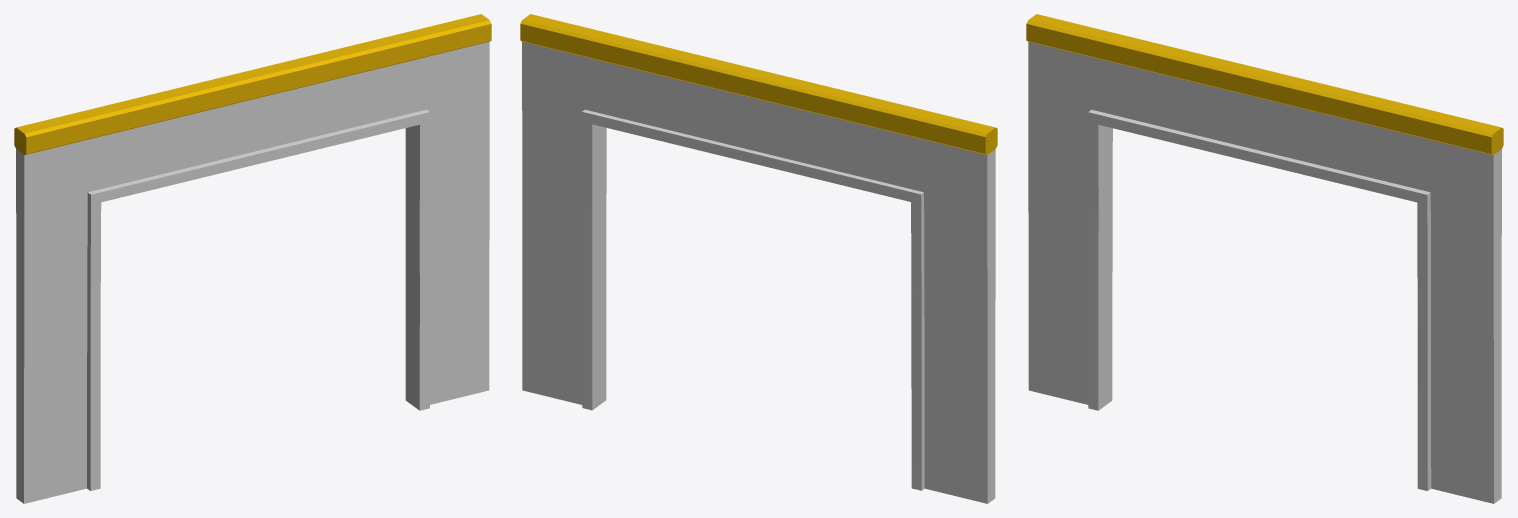
The model's file is wall_22.fbx.
3 views of the same model, side by side, from view 1: azimuth 30°, elevation 25°; view 2: azimuth 150°, elevation 25°; view 3: azimuth 330°, elevation 25° (orthographic).
Parts seen in each view (by area): view 1: WALL_4.006; view 2: WALL_4.006; view 3: WALL_4.006.
Part boxes in pixels (<box>): WALL_4.006: <box>14,14,491,503</box>; WALL_4.006: <box>520,14,997,503</box>; WALL_4.006: <box>1026,14,1503,503</box>.
Size of the model in its own units: 6.34 by 4.83 by 0.3452.
